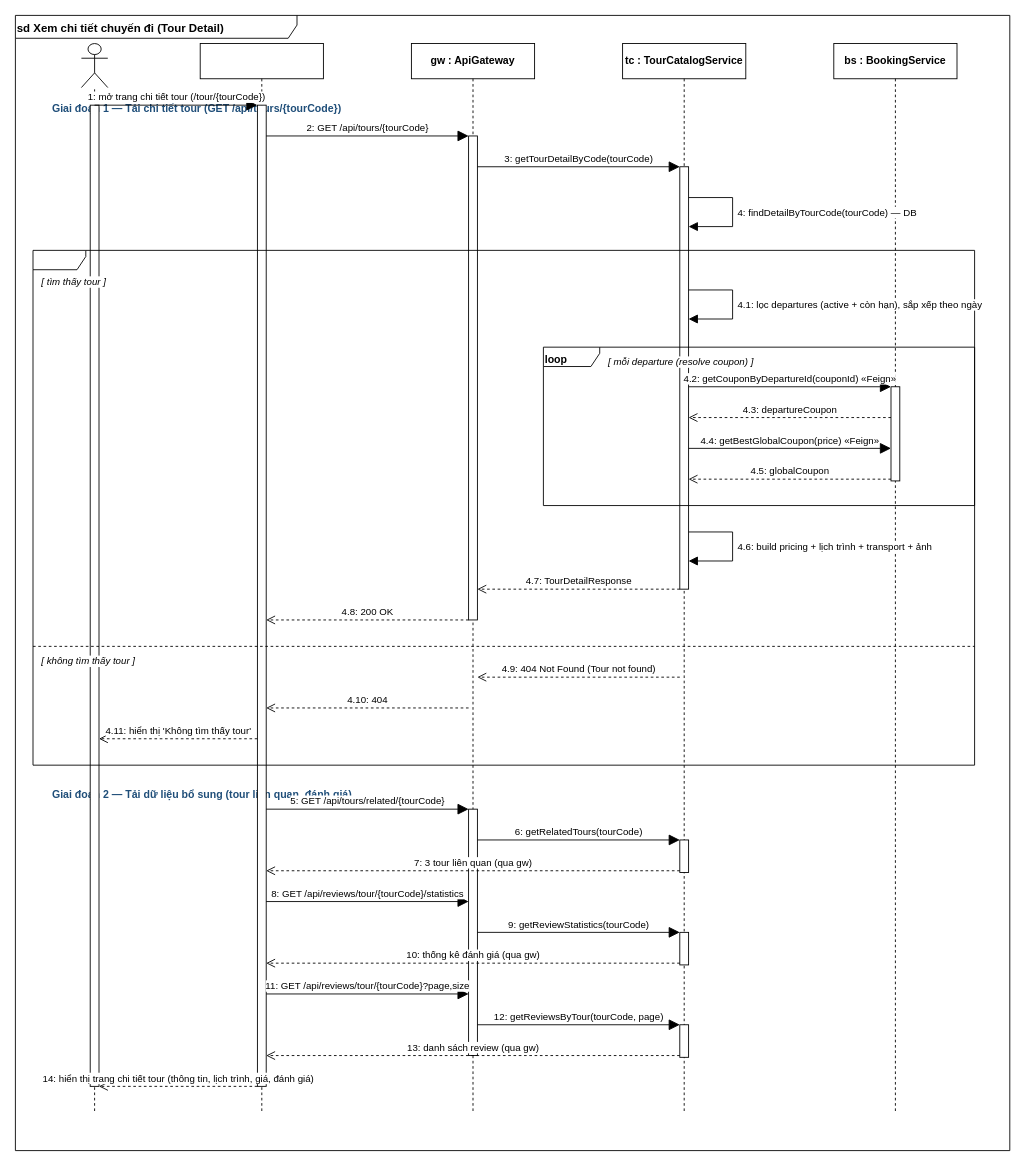
Some shapes in this 1025 by 1166 pixel diagram are drawn without their labels. The box of each missing label's shape, as (x1, y1, x2, y2) in pixels:
alt: (32, 249, 975, 765)
td : TourDetailPage: (199, 43, 323, 1113)
User: (81, 43, 108, 88)
